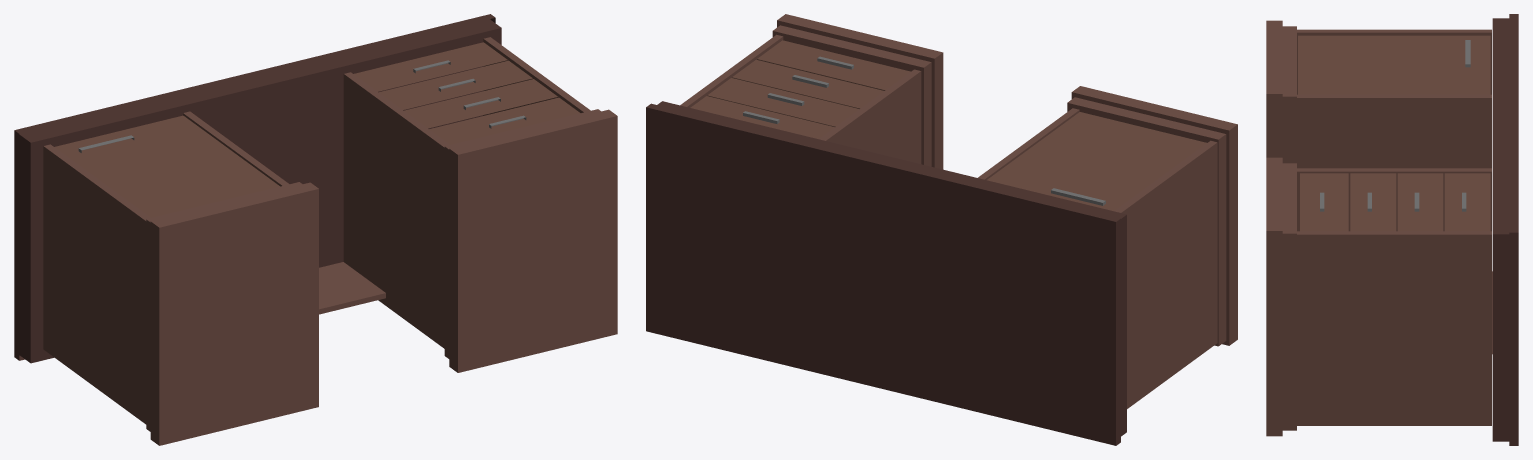
The model's file is desk-b.glb.
3 renders of one model, left to right at view 1: azimuth 30°, elevation 25°; view 2: azimuth 150°, elevation 25°; view 3: azimuth 270°, elevation 25°, orthographic. The views are drawn at different scales.
Parts seen in each view (by area): view 1: office_table_005; view 2: office_table_005; view 3: office_table_005.
Part boxes in pixels (x1,y1,x2,y2): office_table_005: (14, 14, 617, 445); office_table_005: (646, 14, 1237, 445); office_table_005: (1266, 14, 1518, 445).
Size of the model in its own units: 1.49 by 0.677 by 0.7256.
1 material, 1 textured.
